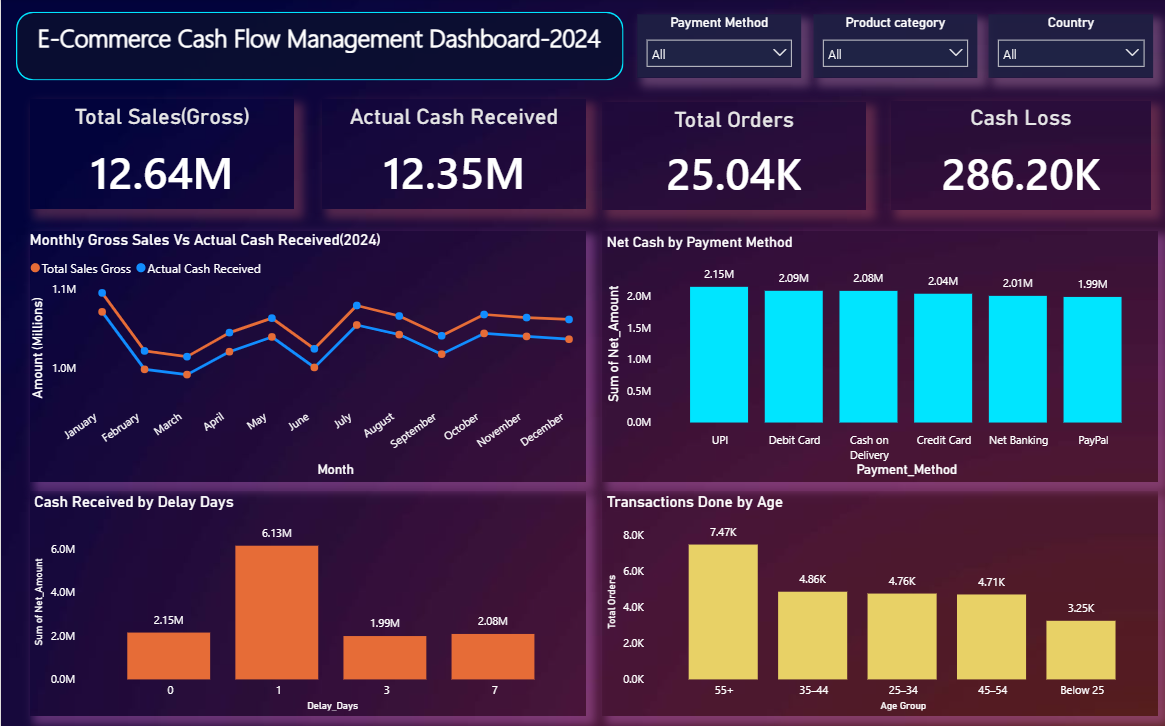

Layout of this report page (visuals, bound fields, positions):
{"tool":"powerbi","page":{"name":"Page 1","canvas":[1280,800],"ordinal":0},"visuals":[{"type":"shape","box":[16.5,15.1,666.9,75.5],"z":0},{"type":"textbox","box":[0,17.8,698.5,64.5],"z":1000},{"type":"cardVisual","title":"Total Sales(Gross)","fields":{"Data":["cashflow_transactions.Total Sales Gross"]},"box":[31.6,111.1,290,120.8],"z":2000},{"type":"cardVisual","title":"Actual Cash Received","fields":{"Data":["cashflow_transactions.Actual Cash Received"]},"box":[352.7,111.1,289.5,120.8],"z":3000},{"type":"cardVisual","title":"Total Orders","fields":{"Data":["cashflow_transactions.Total Orders"]},"box":[660,113.9,289.5,118],"z":4000},{"type":"cardVisual","title":"Cash Loss","fields":{"Data":["cashflow_transactions.CashLoss"]},"box":[977,112.5,285.4,120],"z":5000},{"type":"slicer","title":"Payment Method","fields":{"Values":["cashflow_transactions.Payment_Method"]},"box":[698.5,17.8,179.8,70],"z":6000},{"type":"slicer","title":"Product category","fields":{"Values":["cashflow_transactions.Product_Category"]},"box":[891.9,17.8,179.8,70],"z":7000},{"type":"slicer","title":"Country","fields":{"Values":["cashflow_transactions.Country"]},"box":[1084.1,17.8,181.1,70],"z":8000},{"type":"lineChart","title":"Monthly Gross Sales Vs Actual Cash Received(2024)","fields":{"Y":["cashflow_transactions.Total Sales Gross","cashflow_transactions.Actual Cash Received"],"Category":["cashflow_transactions.Bank_Arrival_Date.Variation.Date Hierarchy.Month"]},"box":[31.6,255.2,610.6,275.8],"z":9000},{"type":"clusteredColumnChart","title":"Net Cash by Payment Method","fields":{"Category":["cashflow_transactions.Payment_Method"],"Y":["Sum(cashflow_transactions.Net_Amount)"]},"box":[660,255.2,610,275.8],"z":10000},{"type":"clusteredColumnChart","title":"Cash Received by Delay Days","fields":{"Category":["cashflow_transactions.Delay_Days"],"Y":["Sum(cashflow_transactions.Net_Amount)"]},"box":[31.6,540.7,610.6,247],"z":11000},{"type":"clusteredColumnChart","title":"Transactions Done by Age","fields":{"Category":["cashflow_transactions.Age Group"],"Y":["cashflow_transactions.Total Orders"]},"box":[660,540.7,610.6,247],"z":12001}]}

Visuals, with their boxes in screenshot pixels (x1, y1, x2, y2), scaled from the page's 1280x800 canvas onto the 1165x726 screenshot:
shape: pyautogui.locateOnScreen(15, 14, 622, 82)
textbox: pyautogui.locateOnScreen(0, 16, 636, 75)
"Total Sales(Gross)" cardVisual: pyautogui.locateOnScreen(29, 101, 293, 210)
"Actual Cash Received" cardVisual: pyautogui.locateOnScreen(321, 101, 585, 210)
"Total Orders" cardVisual: pyautogui.locateOnScreen(601, 103, 864, 210)
"Cash Loss" cardVisual: pyautogui.locateOnScreen(889, 102, 1149, 211)
"Payment Method" slicer: pyautogui.locateOnScreen(636, 16, 799, 80)
"Product category" slicer: pyautogui.locateOnScreen(812, 16, 975, 80)
"Country" slicer: pyautogui.locateOnScreen(987, 16, 1152, 80)
"Monthly Gross Sales Vs Actual Cash Received(2024)" lineChart: pyautogui.locateOnScreen(29, 232, 585, 482)
"Net Cash by Payment Method" clusteredColumnChart: pyautogui.locateOnScreen(601, 232, 1156, 482)
"Cash Received by Delay Days" clusteredColumnChart: pyautogui.locateOnScreen(29, 491, 585, 715)
"Transactions Done by Age" clusteredColumnChart: pyautogui.locateOnScreen(601, 491, 1156, 715)
